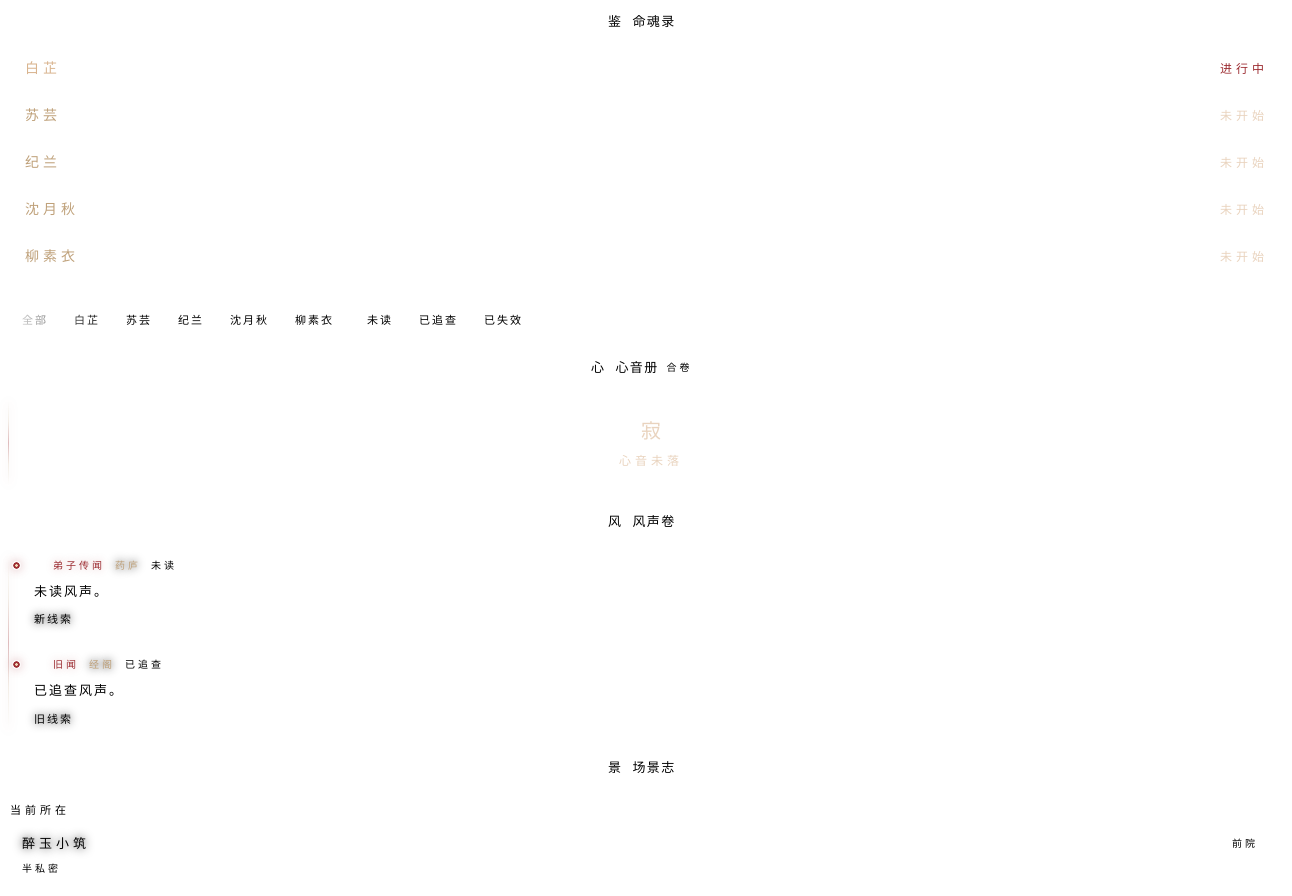
GalleryPage › 可按风声状态筛选风声卷
Click the button "已追查" at (438, 320), box [409,307,468,334]
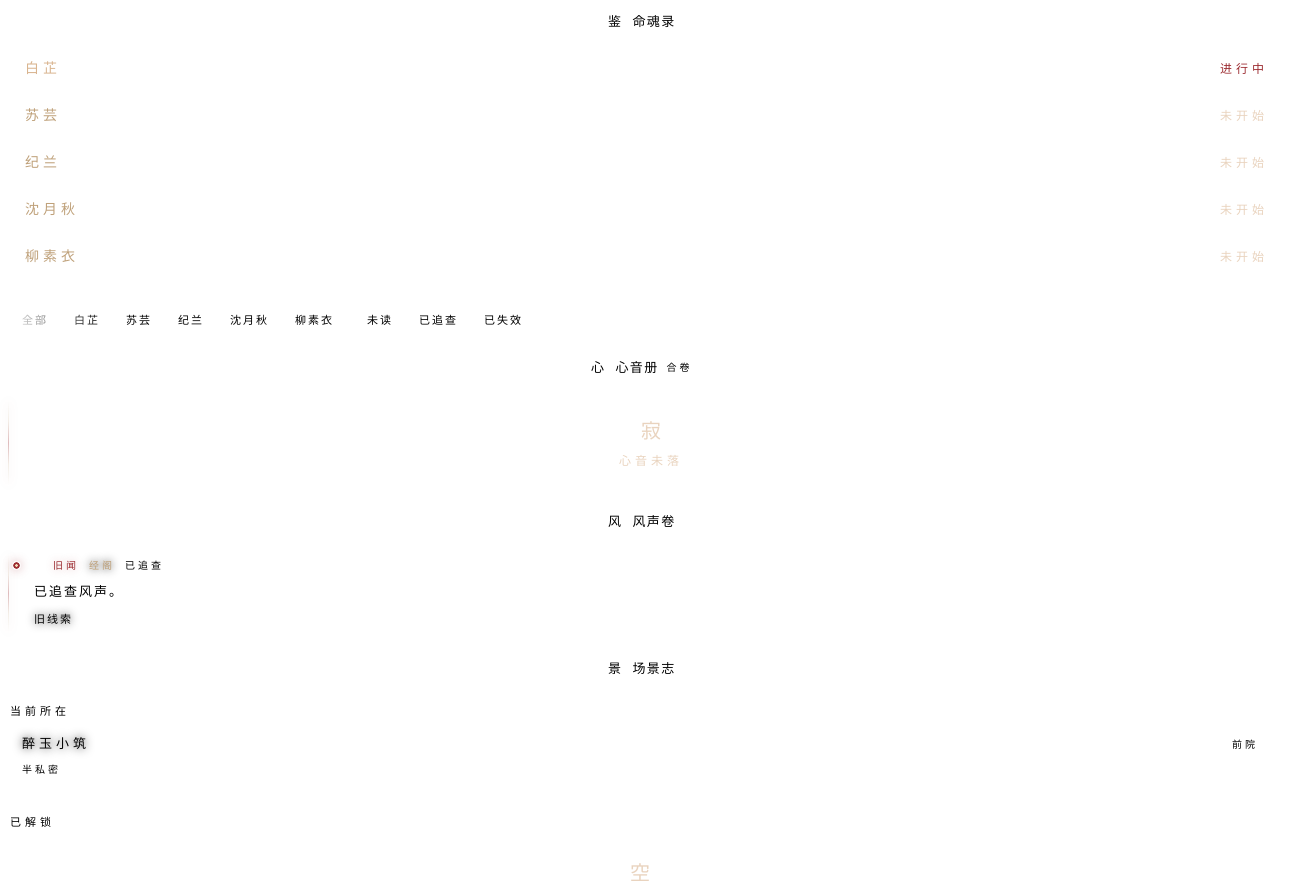
expect the button with class "rumor-archive-item" shows "已追查风声。": met, box [22,548,1280,639]
expect the number of buttons with class "rumor-archive-item" is 1: met, box [22,548,1280,639]
